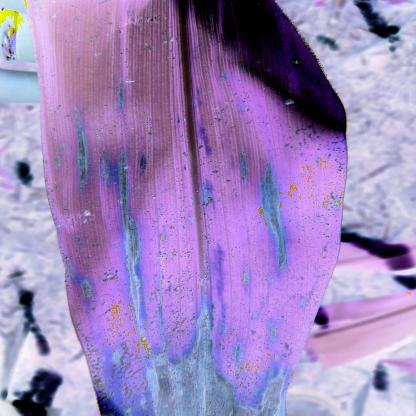Corn leaf blight: (34, 4, 337, 416)
